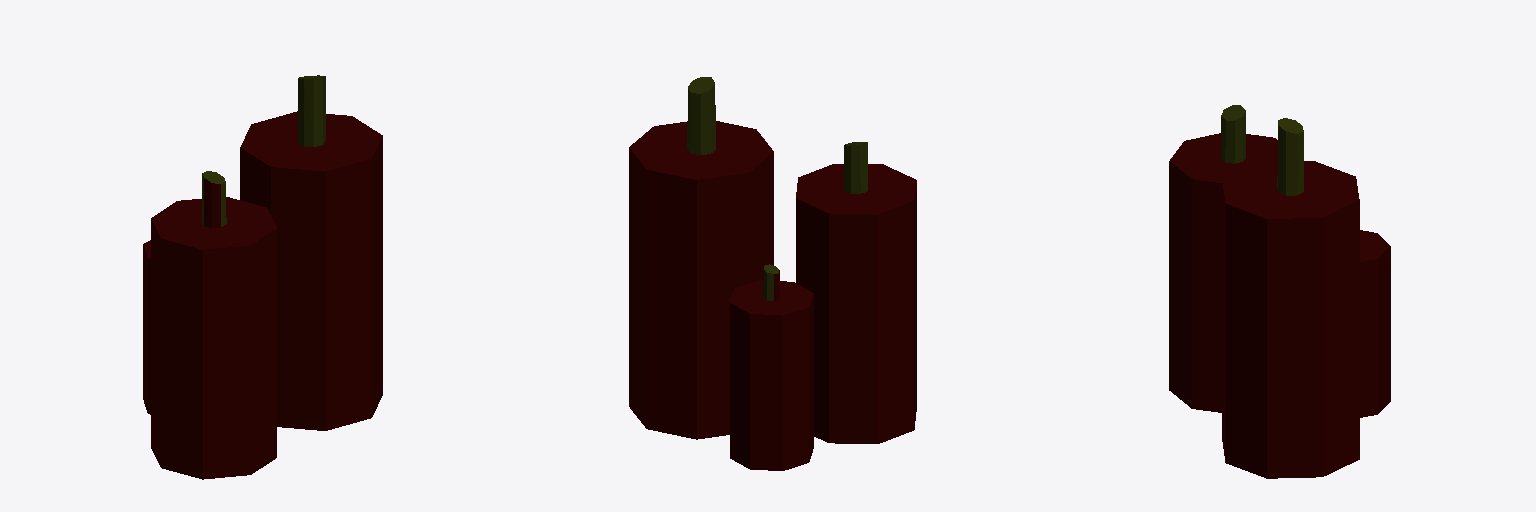
Rendered from Candles_01.obj.
3 renders of one model, left to right at view 1: azimuth 30°, elevation 25°; view 2: azimuth 150°, elevation 25°; view 3: azimuth 270°, elevation 25°, orthographic.
Visible parts, largest first — view 1: Candle_01_Circle.001; view 2: Candle_01_Circle.001; view 3: Candle_01_Circle.001.
Boxes of the visible parts, x1=… form: Candle_01_Circle.001: x1=143, y1=75, x2=382, y2=479; Candle_01_Circle.001: x1=629, y1=77, x2=916, y2=470; Candle_01_Circle.001: x1=1169, y1=105, x2=1390, y2=478.
Bounding box in the file's own units: 0.6726 × 0.8741 × 0.5344.